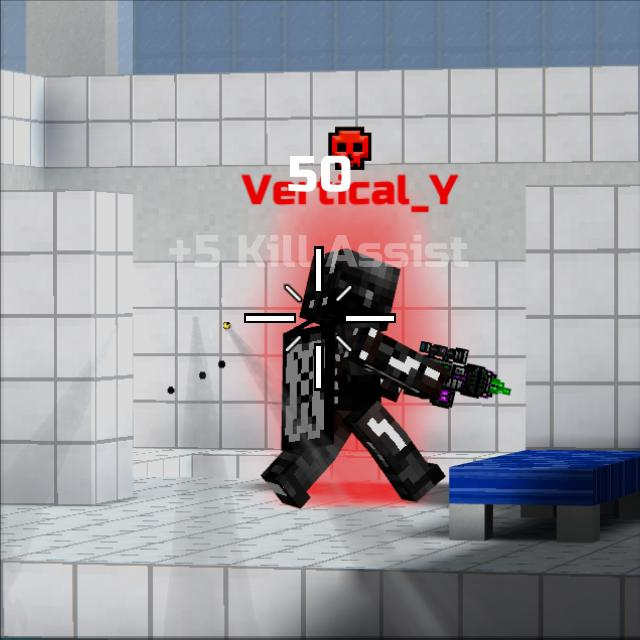Enemy: (277, 255, 448, 512)
